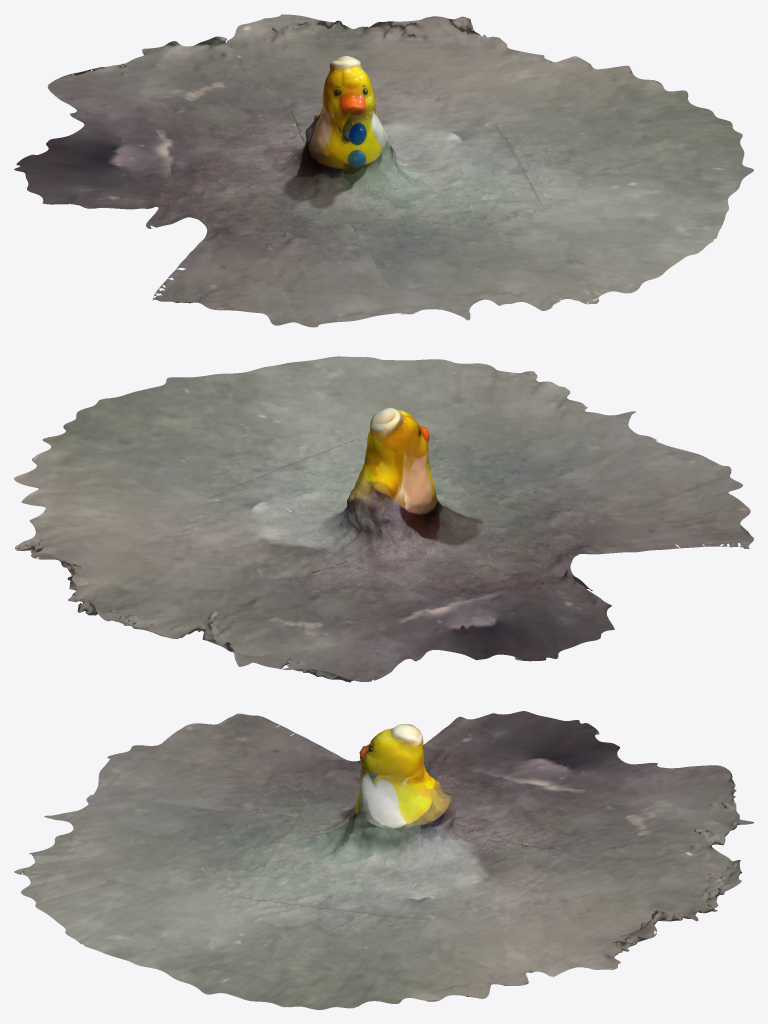
Rendered from 29 Jan at 11_33 PM-poly.dae.
3 views of the same model, one above another, from view 1: azimuth 30°, elevation 25°; view 2: azimuth 150°, elevation 25°; view 3: azimuth 270°, elevation 25° (orthographic). The views are drawn at different scales.
Parts seen in each view (by area): view 1: MDL_OBJ_material0000; view 2: MDL_OBJ_material0000; view 3: MDL_OBJ_material0000.
Boxes of the visible parts, box(x1,y1,x2,y2) form: MDL_OBJ_material0000: box(14, 14, 753, 327); MDL_OBJ_material0000: box(14, 356, 753, 682); MDL_OBJ_material0000: box(14, 711, 753, 1009).
Size of the model in its own units: 1.09 by 0.2131 by 1.14.
1 material, 1 textured.
